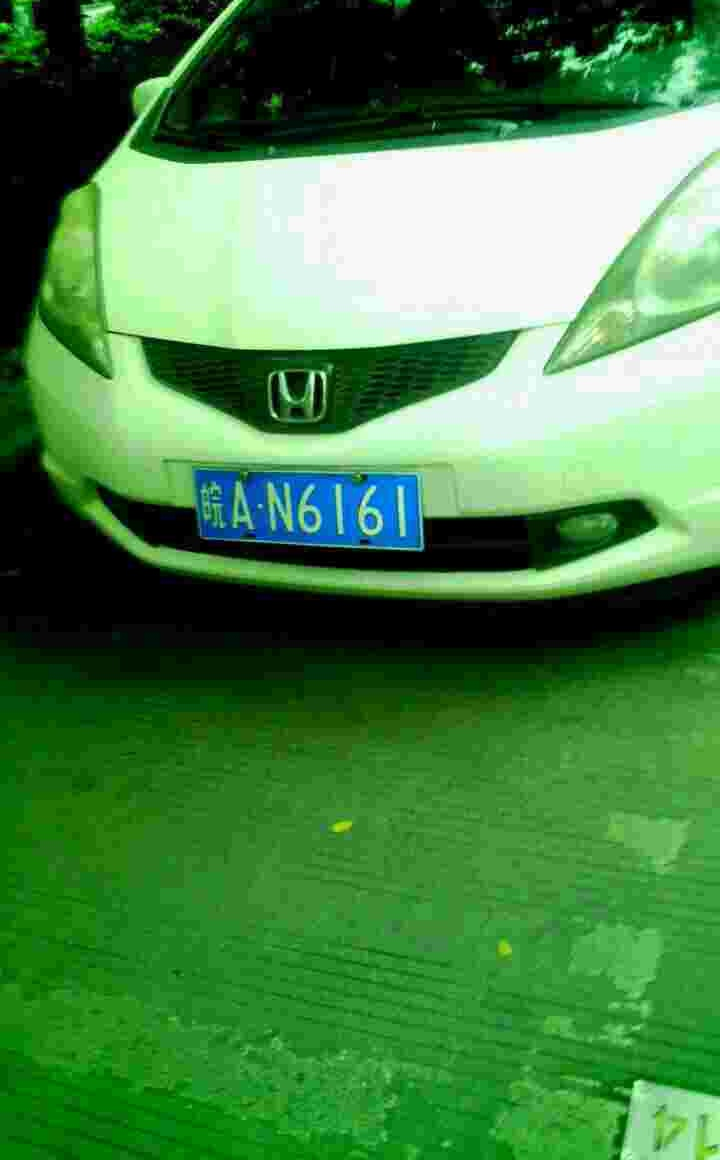plate: (188, 461, 430, 555)
